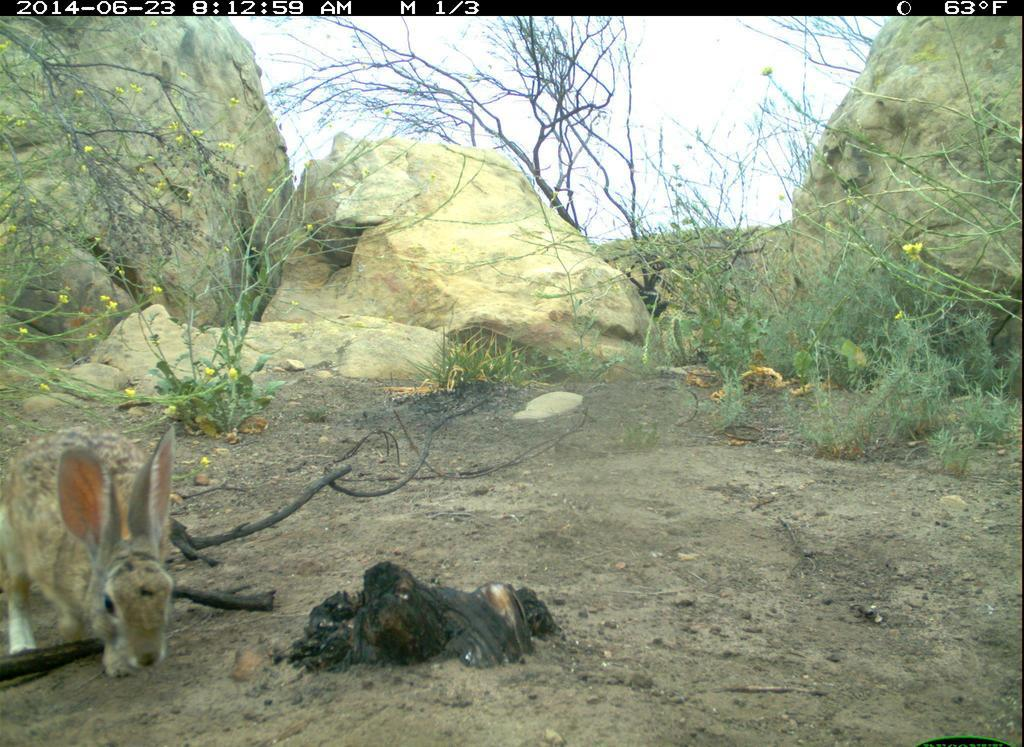rabbit: (1, 405, 209, 693)
